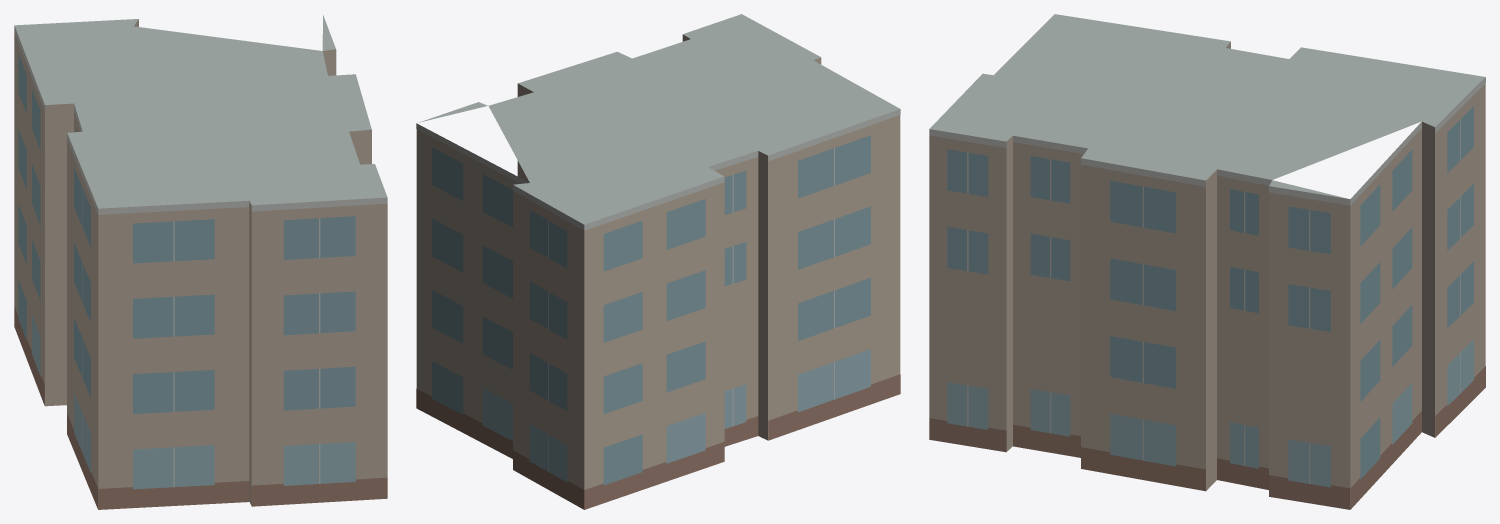
Rendered from survey-upis-32976981.glb.
3 views of the same model, side by side, from view 1: azimuth 30°, elevation 25°; view 2: azimuth 150°, elevation 25°; view 3: azimuth 270°, elevation 25° (orthographic). The views are drawn at different scales.
Parts seen in each view (by area): view 1: survey-upis-32976981.tmp; view 2: survey-upis-32976981.tmp; view 3: survey-upis-32976981.tmp.
Boxes of the visible parts, x1,y1,x2,y2 form: survey-upis-32976981.tmp: (14, 15, 387, 509); survey-upis-32976981.tmp: (416, 14, 900, 509); survey-upis-32976981.tmp: (929, 14, 1485, 509).
Bounding box in the file's own units: 15.1 × 11.8 × 19.16.
